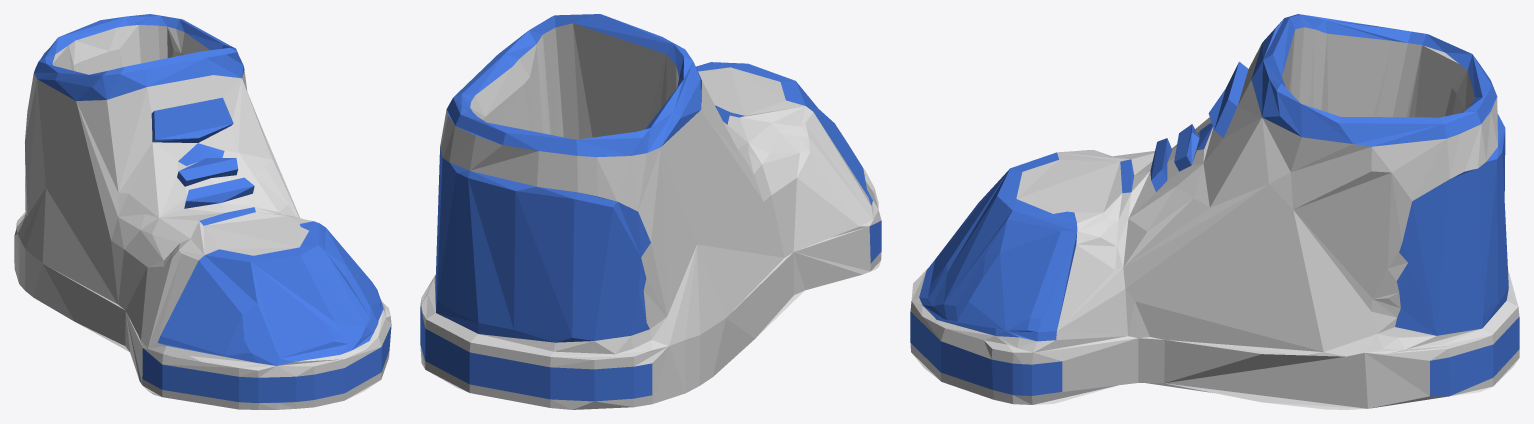
File: Shoes.fbx
3 views of the same model, side by side, from view 1: azimuth 30°, elevation 25°; view 2: azimuth 150°, elevation 25°; view 3: azimuth 270°, elevation 25° (orthographic). The views are drawn at different scales.
Visible parts, largest first — view 1: Shoes; view 2: Shoes; view 3: Shoes.
Boxes of the visible parts, bbox=[...] form: Shoes: bbox=[14, 14, 391, 409]; Shoes: bbox=[420, 14, 881, 409]; Shoes: bbox=[910, 14, 1519, 409].
Bounding box in the file's own units: 4.6 × 4.58 × 8.36.
